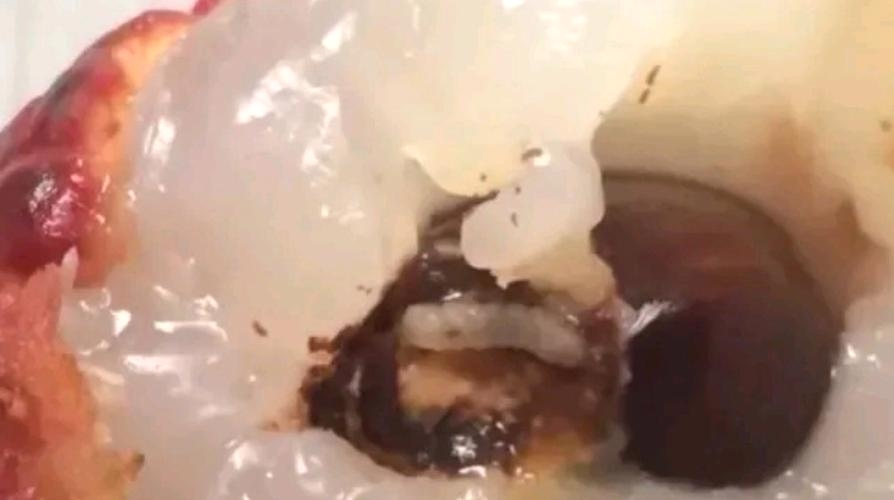Borer: (374, 283, 590, 367)
